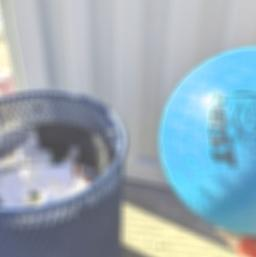algae: (161, 49, 256, 240)
